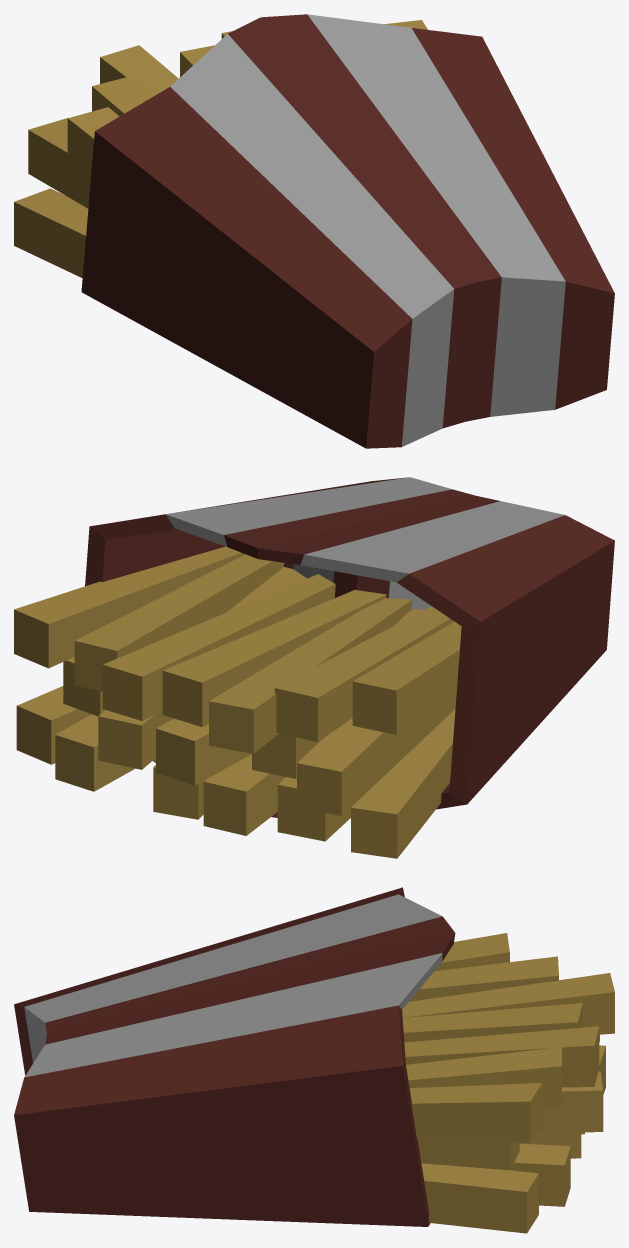
The model's file is food-Fries.glb.
3 renders of one model, top to bottom at view 1: azimuth 30°, elevation 25°; view 2: azimuth 150°, elevation 25°; view 3: azimuth 270°, elevation 25°, orthographic. The views are drawn at different scales.
Parts seen in each view (by area): view 1: Fries; view 2: Fries; view 3: Fries.
Part boxes in pixels (x1,y1,x2,y2): Fries: [14, 14, 614, 448]; Fries: [14, 477, 614, 858]; Fries: [14, 887, 614, 1233].
Size of the model in its own units: 0.9488 by 0.5858 by 1.33.
